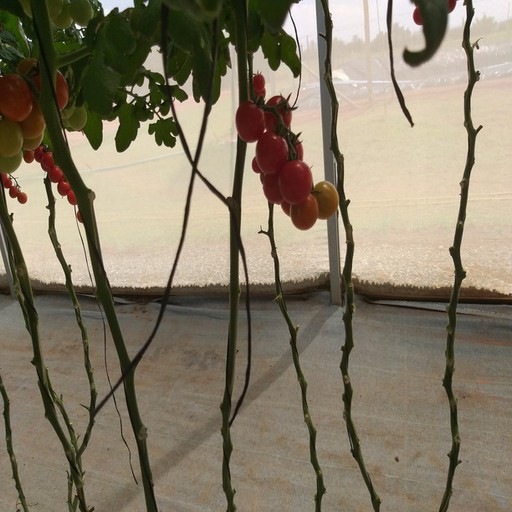mixed tomato bunch: (1, 55, 68, 174)
red tomato bunch: (235, 94, 338, 229), (23, 142, 98, 225), (2, 171, 27, 204)
